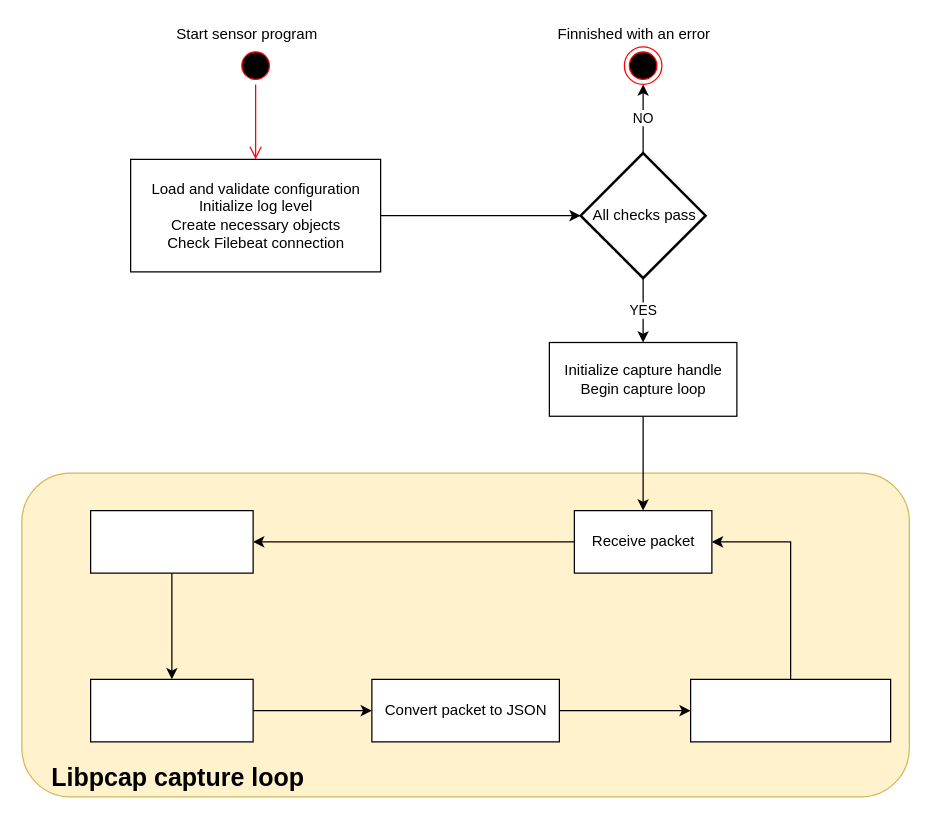
Some shapes in this 931 by 819 pixel diagram are drawn without their labels. The centre of each missing label's shape, as x and y in pixels:
"Harmonize packet data" belongs at [171,710].
"Parse packet headers" belongs at [171,541].
"Sent JSON packet to Filebeat" belongs at [790,710].
